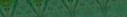Tomato leaf bacterial spot: (46, 0, 81, 17)
